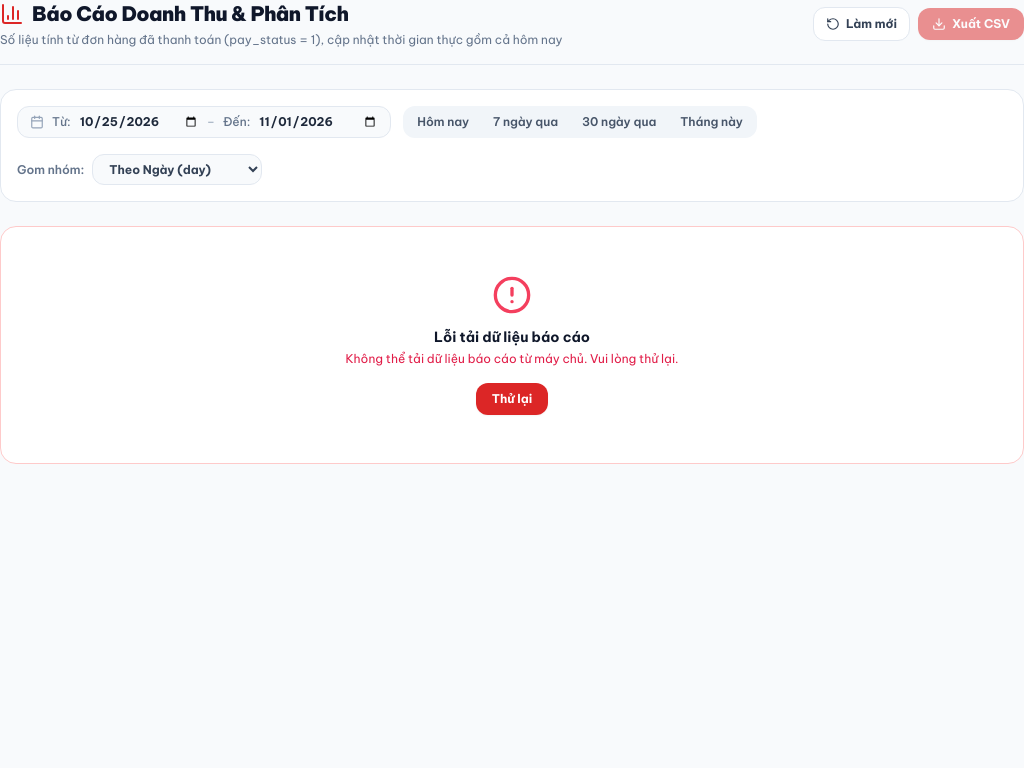
Scenario: Story R1: Shop Revenue Report (/admin/reports) › displays Vietnamese error banner and retry button when getShopReport fails
Expected: the element with test id "report-error-card" is shown, [0,226,1023,464]
Expected: the text "Không thể tải dữ liệu báo cáo từ máy chủ. Vui lòng thử lại." is shown, [346,351,679,366]
Step 1. Click the button with test id "retry-report-btn" → (512, 399), box [476,383,548,415]
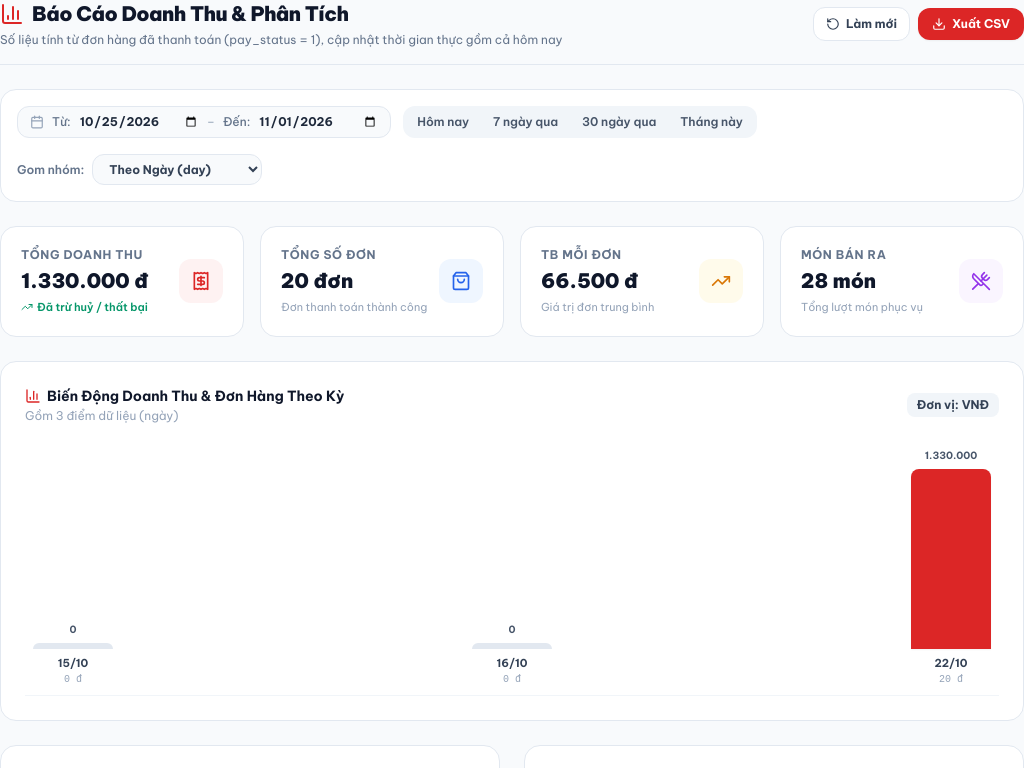
Expected: the element with test id "report-card-revenue" shows "1.330.000 đ", [21,268,148,293]
